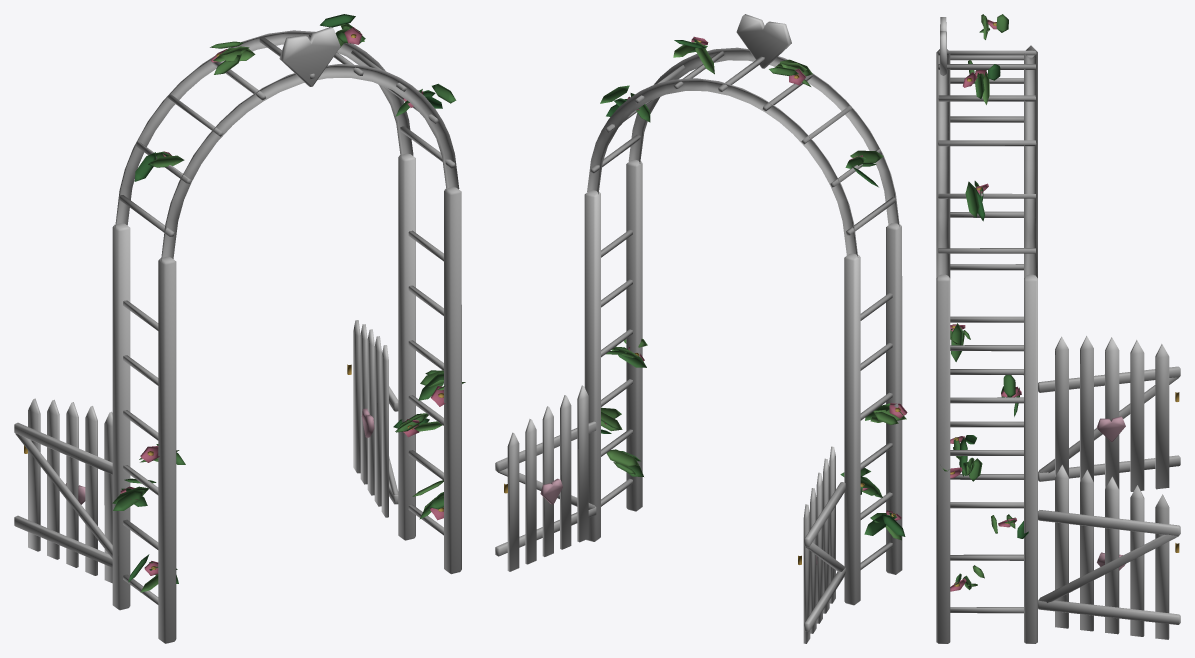
Rendered from bld_home_garden_lite.glb.
3 views of the same model, side by side, from view 1: azimuth 30°, elevation 25°; view 2: azimuth 150°, elevation 25°; view 3: azimuth 270°, elevation 25° (orthographic). The views are drawn at different scales.
Visible parts, largest first — view 1: INST_bld_home_garden_lite_arbor_s_paint, INST_bld_home_garden_lite_arbor_s_fixed; view 2: INST_bld_home_garden_lite_arbor_s_paint, INST_bld_home_garden_lite_arbor_s_fixed; view 3: INST_bld_home_garden_lite_arbor_s_paint, INST_bld_home_garden_lite_arbor_s_fixed.
Boxes of the visible parts, bbox=[...] form: INST_bld_home_garden_lite_arbor_s_paint: bbox=[14, 27, 461, 643]; INST_bld_home_garden_lite_arbor_s_fixed: bbox=[112, 14, 465, 592]; INST_bld_home_garden_lite_arbor_s_paint: bbox=[495, 14, 902, 643]; INST_bld_home_garden_lite_arbor_s_fixed: bbox=[600, 36, 907, 540]; INST_bld_home_garden_lite_arbor_s_paint: bbox=[936, 17, 1180, 643]; INST_bld_home_garden_lite_arbor_s_fixed: bbox=[942, 14, 1028, 591].
Bounding box in the file's own units: 2.18 × 3.45 × 1.39.
